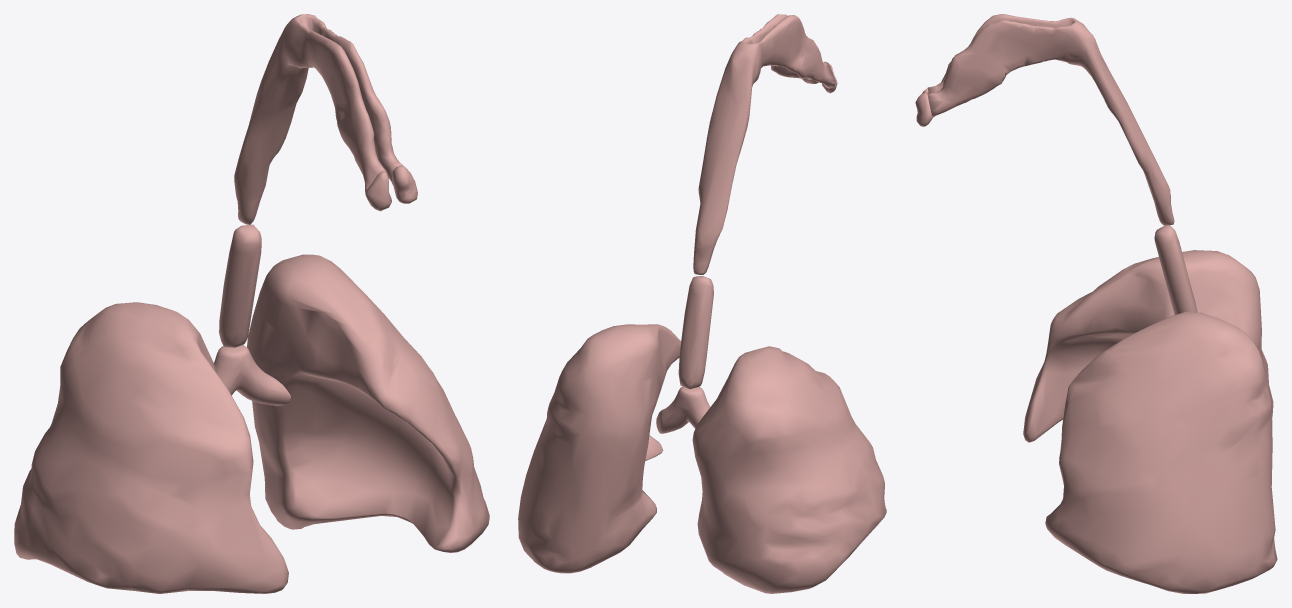
Rendered from pediatric_neonate_female.respiratory.LOD1.glb.
The picture shows the model from 3 angles, left to right: view 1: azimuth 30°, elevation 25°; view 2: azimuth 150°, elevation 25°; view 3: azimuth 270°, elevation 25°; orthographic projection. The views are drawn at different scales.
Visible parts, largest first — view 1: PEDIATRIC.NEONATE.FEMALE.RESPIRATORY.LUNG.R, PEDIATRIC.NEONATE.FEMALE.RESPIRATORY.LUNG.L, PEDIATRIC.NEONATE.FEMALE.RESPIRATORY.ET2, PEDIATRIC.NEONATE.FEMALE.RESPIRATORY.TRACHEA, PEDIATRIC.NEONATE.FEMALE.RESPIRATORY.BB1, PEDIATRIC.NEONATE.FEMALE.RESPIRATORY.ET1; view 2: PEDIATRIC.NEONATE.FEMALE.RESPIRATORY.LUNG.R, PEDIATRIC.NEONATE.FEMALE.RESPIRATORY.LUNG.L, PEDIATRIC.NEONATE.FEMALE.RESPIRATORY.ET2, PEDIATRIC.NEONATE.FEMALE.RESPIRATORY.TRACHEA, PEDIATRIC.NEONATE.FEMALE.RESPIRATORY.BB1; view 3: PEDIATRIC.NEONATE.FEMALE.RESPIRATORY.LUNG.L, PEDIATRIC.NEONATE.FEMALE.RESPIRATORY.LUNG.R, PEDIATRIC.NEONATE.FEMALE.RESPIRATORY.ET2, PEDIATRIC.NEONATE.FEMALE.RESPIRATORY.TRACHEA.
Boxes of the visible parts, x1,y1,x2,y2 form: PEDIATRIC.NEONATE.FEMALE.RESPIRATORY.LUNG.R: [14, 302, 288, 593]; PEDIATRIC.NEONATE.FEMALE.RESPIRATORY.LUNG.L: [247, 254, 489, 552]; PEDIATRIC.NEONATE.FEMALE.RESPIRATORY.ET2: [234, 14, 407, 224]; PEDIATRIC.NEONATE.FEMALE.RESPIRATORY.TRACHEA: [219, 224, 261, 347]; PEDIATRIC.NEONATE.FEMALE.RESPIRATORY.BB1: [214, 345, 290, 405]; PEDIATRIC.NEONATE.FEMALE.RESPIRATORY.ET1: [365, 165, 417, 211]; PEDIATRIC.NEONATE.FEMALE.RESPIRATORY.LUNG.R: [692, 346, 886, 593]; PEDIATRIC.NEONATE.FEMALE.RESPIRATORY.LUNG.L: [518, 324, 680, 573]; PEDIATRIC.NEONATE.FEMALE.RESPIRATORY.ET2: [693, 14, 835, 274]; PEDIATRIC.NEONATE.FEMALE.RESPIRATORY.TRACHEA: [678, 276, 713, 389]; PEDIATRIC.NEONATE.FEMALE.RESPIRATORY.BB1: [656, 386, 710, 433]; PEDIATRIC.NEONATE.FEMALE.RESPIRATORY.LUNG.L: [1045, 311, 1277, 593]; PEDIATRIC.NEONATE.FEMALE.RESPIRATORY.LUNG.R: [1023, 250, 1273, 442]; PEDIATRIC.NEONATE.FEMALE.RESPIRATORY.ET2: [927, 14, 1174, 225]; PEDIATRIC.NEONATE.FEMALE.RESPIRATORY.TRACHEA: [1154, 225, 1197, 314].
Size of the model in its own units: 0.0956 by 0.1326 by 0.0874.
